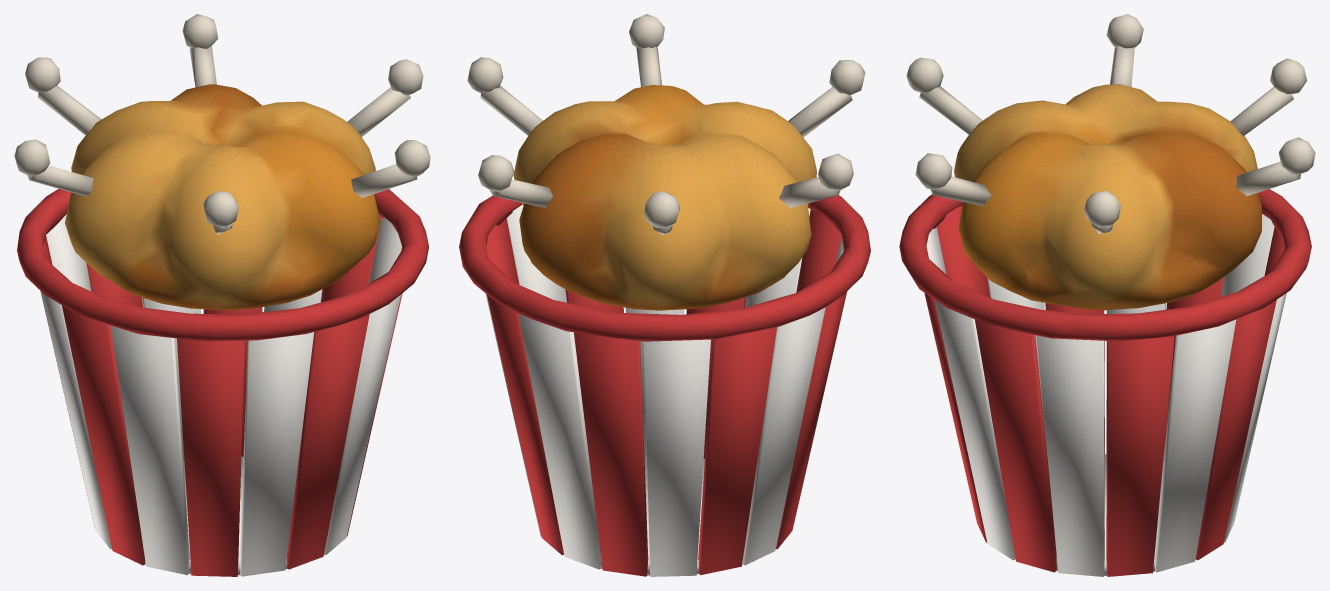
Rendered from tm-chicken-bucket.glb.
3 renders of one model, left to right at view 1: azimuth 30°, elevation 25°; view 2: azimuth 150°, elevation 25°; view 3: azimuth 270°, elevation 25°, orthographic.
Visible parts, largest first — view 1: tm-chicken-bucket; view 2: tm-chicken-bucket; view 3: tm-chicken-bucket.
Boxes of the visible parts, <box> form: tm-chicken-bucket: <box>14,14,430,576</box>; tm-chicken-bucket: <box>459,14,870,576</box>; tm-chicken-bucket: <box>899,14,1315,576</box>.
Size of the model in its own units: 0.2196 by 0.223 by 0.2008.
1 material, 1 textured.
